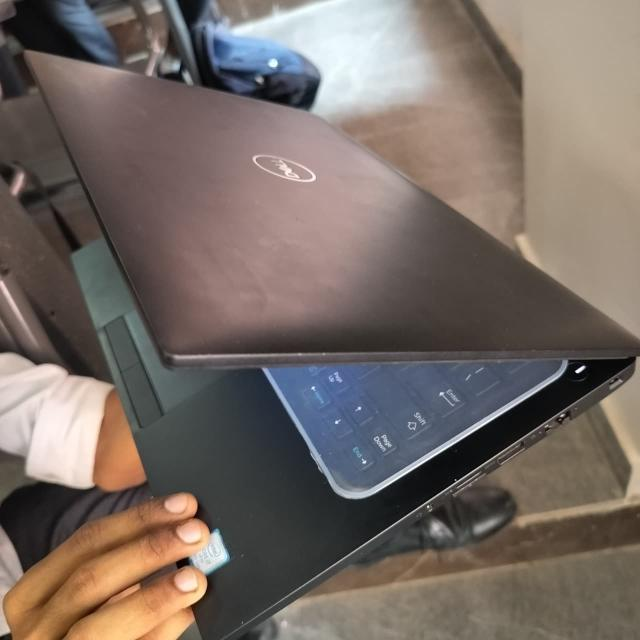laptop: (30, 56, 634, 624)
